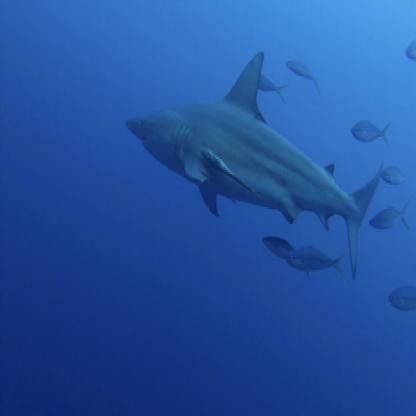Shark -Selachimorpha-: (125, 53, 384, 280)
